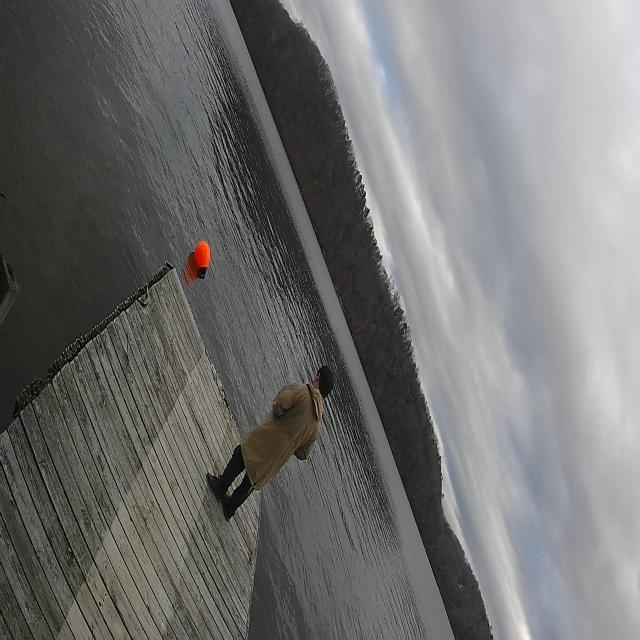Buoy: (194, 240, 211, 282)
